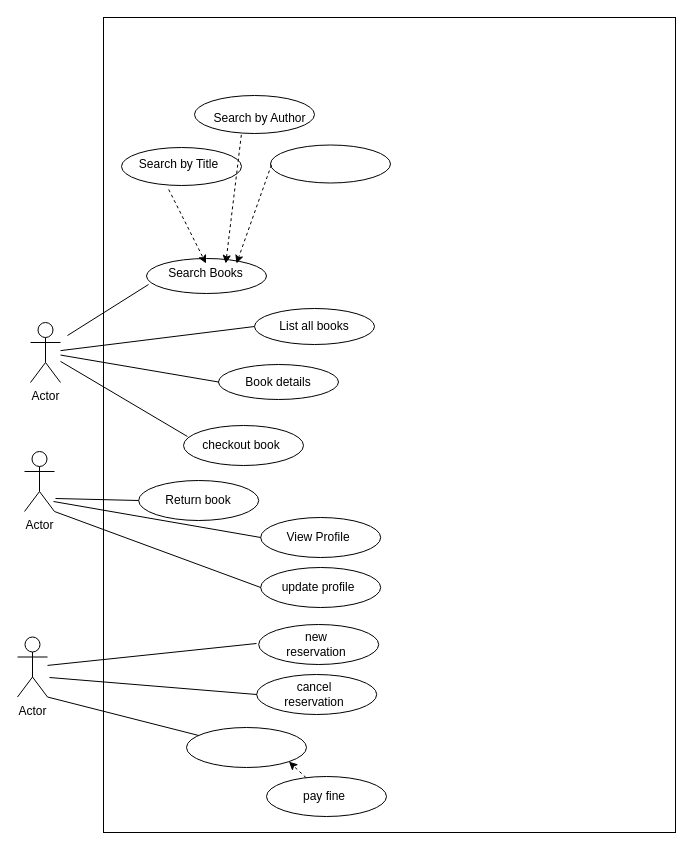
Image size: 693x850. Some labels were removed from this diagram. The shapes that lost their labels are listed below. From the top down, each one's centre as x and y in pixels, then its label:
At (x=330, y=163): "Search by Category".
At (x=246, y=747): "Renew book".
